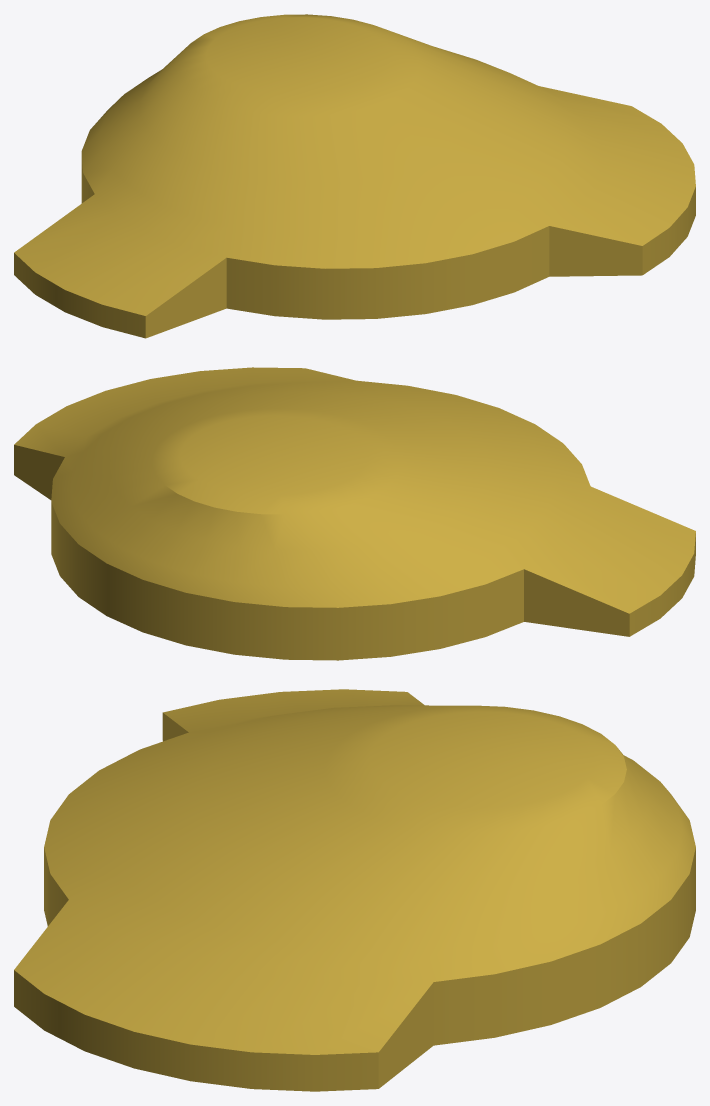
File: PRAIA.fbx
3 renders of one model, top to bottom at view 1: azimuth 30°, elevation 25°; view 2: azimuth 150°, elevation 25°; view 3: azimuth 270°, elevation 25°, orthographic. The views are drawn at different scales.
Parts seen in each view (by area): view 1: Cylinder; view 2: Cylinder; view 3: Cylinder.
Boxes of the visible parts, x1,y1,x2,y2 form: Cylinder: (14,14,695,338); Cylinder: (14,367,695,660); Cylinder: (14,689,695,1091).
Bounding box in the file's own units: 983 × 185 × 757.
